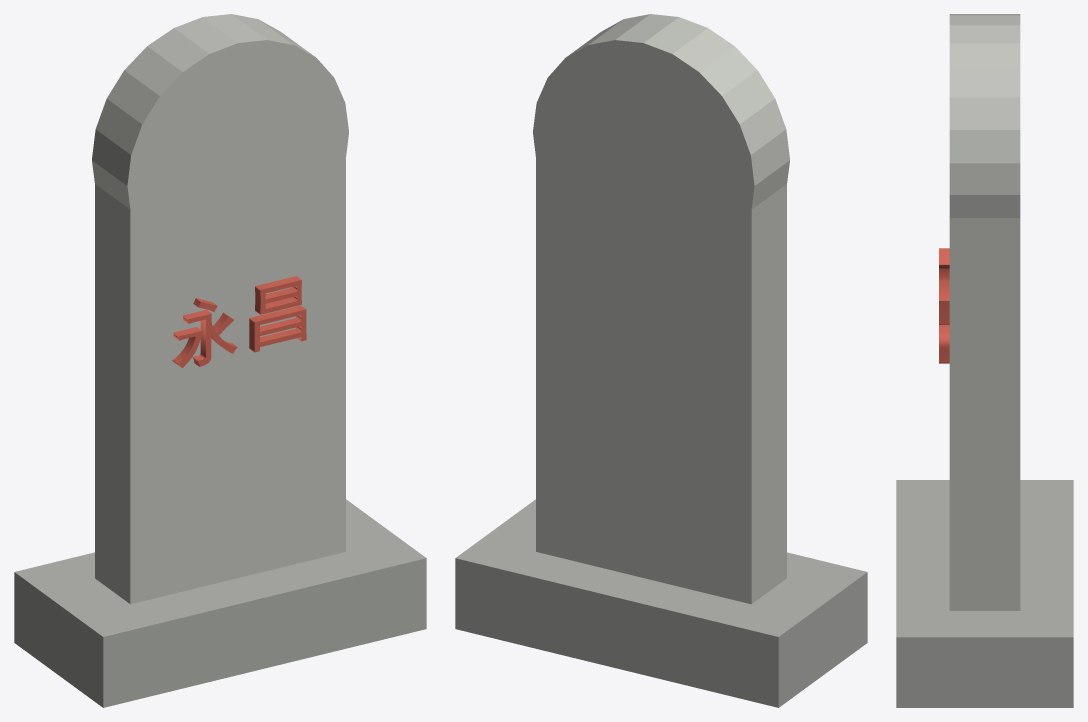
File: stele.glb
3 views of the same model, side by side, from view 1: azimuth 30°, elevation 25°; view 2: azimuth 150°, elevation 25°; view 3: azimuth 270°, elevation 25° (orthographic).
Parts seen in each view (by area): view 1: stele; view 2: stele; view 3: stele.
Part boxes in pixels (bbox=[...]): stele: bbox=[14, 14, 426, 707]; stele: bbox=[455, 14, 867, 707]; stele: bbox=[896, 14, 1073, 707].
Size of the model in its own units: 1.05 by 1.88 by 0.5.
